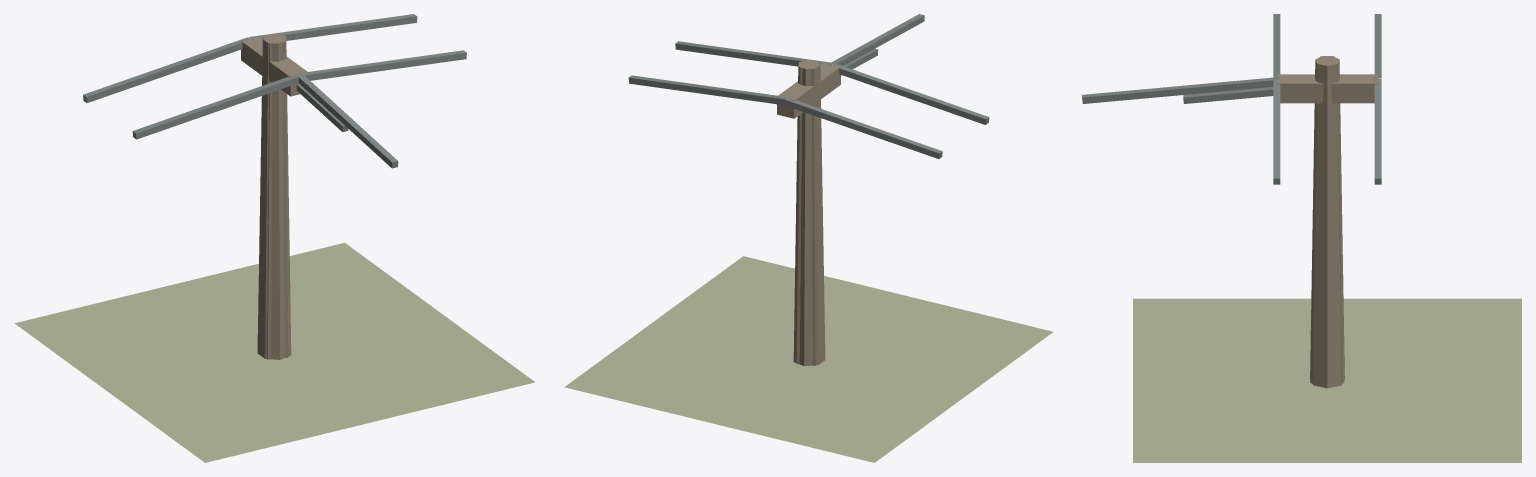
3 renders of one model, left to right at view 1: azimuth 30°, elevation 25°; view 2: azimuth 150°, elevation 25°; view 3: azimuth 270°, elevation 25°, orthographic. The views are drawn at different scales.
Visible parts, largest first — view 1: Near, Far; view 2: Near, Far; view 3: Near, Far.
Boxes of the visible parts, bbox=[...] form: Near: bbox=[15, 14, 534, 462]; Far: bbox=[263, 34, 288, 359]; Near: bbox=[564, 14, 1053, 462]; Far: bbox=[796, 60, 820, 365]; Near: bbox=[1082, 14, 1521, 462]; Far: bbox=[1310, 56, 1344, 383].
Bounding box in the file's own units: 1 × 0.91 × 1.13.
